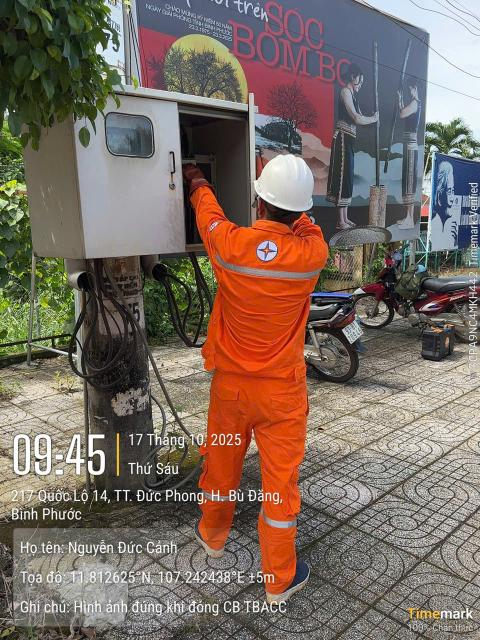gloves: (172, 161, 218, 203)
helmet: (251, 144, 325, 218)
shoes: (261, 553, 312, 605), (188, 519, 230, 566)
